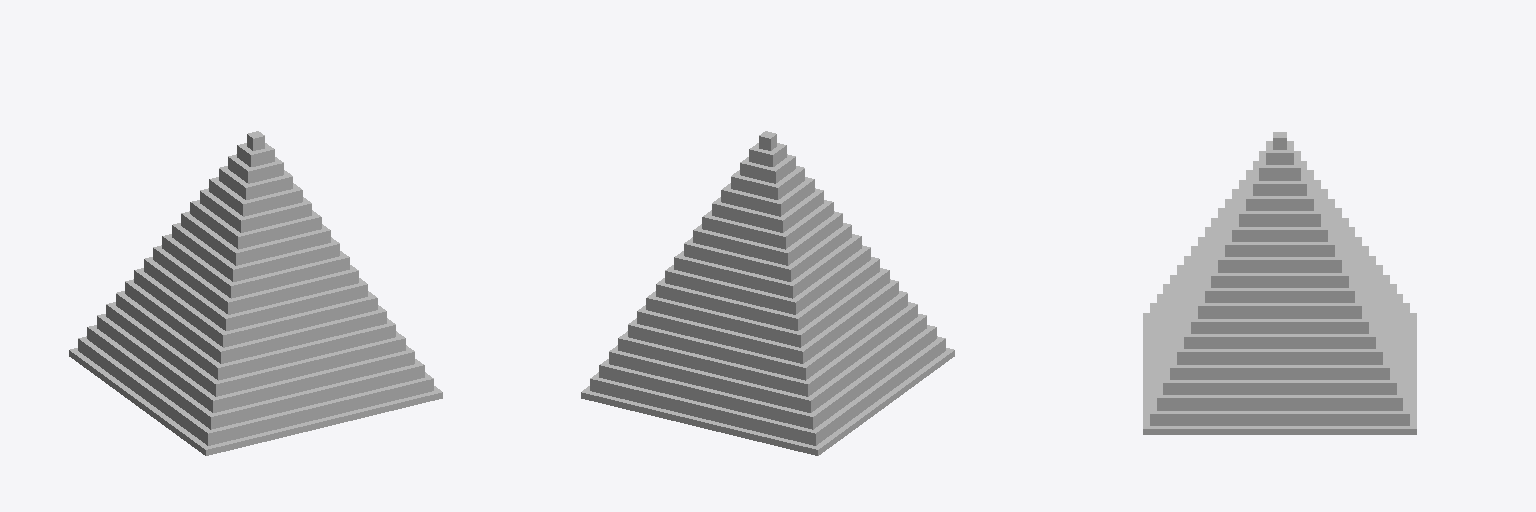
File: Obstacle.obj
3 views of the same model, side by side, from view 1: azimuth 30°, elevation 25°; view 2: azimuth 150°, elevation 25°; view 3: azimuth 270°, elevation 25° (orthographic).
Parts seen in each view (by area): view 1: object 1; view 2: object 1; view 3: object 1.
Part boxes in pixels (left/top/right/bottom): object 1: left=69, top=131, right=442, bottom=455; object 1: left=581, top=131, right=954, bottom=455; object 1: left=1143, top=132, right=1416, bottom=434.
Size of the model in its own units: 4 by 3.9 by 4.